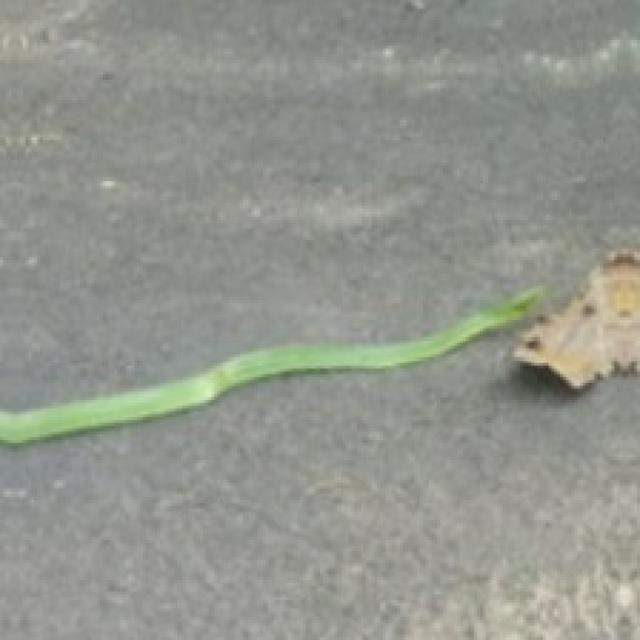red-tailed green ratsnake: (0, 286, 546, 443)
